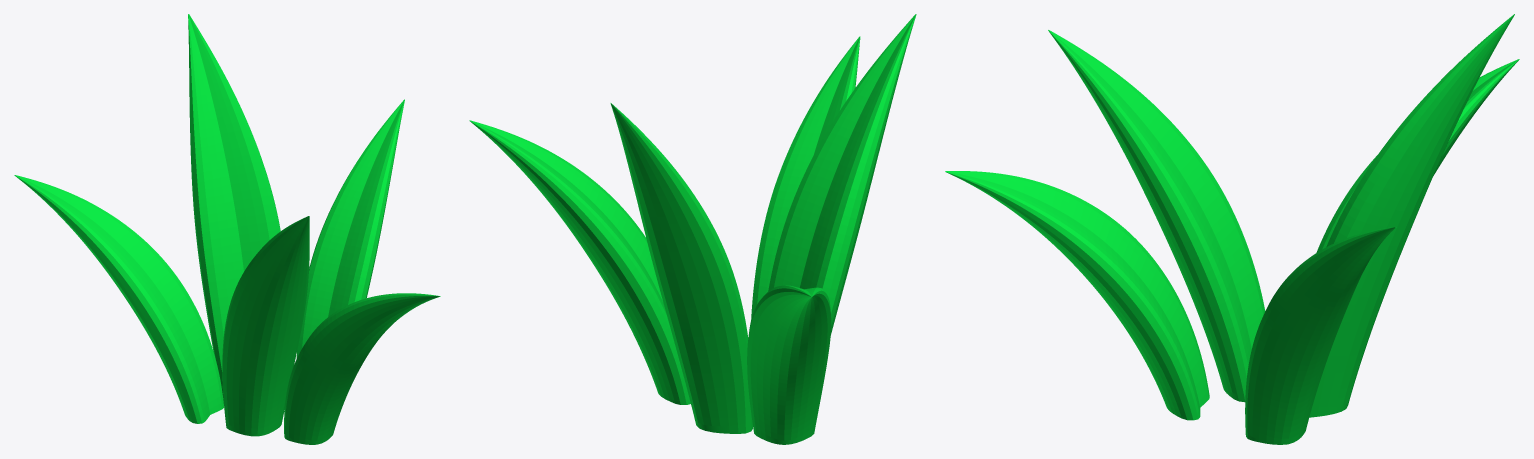
The model's file is plant1.fbx.
3 views of the same model, side by side, from view 1: azimuth 30°, elevation 25°; view 2: azimuth 150°, elevation 25°; view 3: azimuth 270°, elevation 25° (orthographic). The views are drawn at different scales.
Parts seen in each view (by area): view 1: plant; view 2: plant; view 3: plant.
Part boxes in pixels (x1,y1,x2,y2): plant: (14,14,440,444); plant: (469,14,916,444); plant: (945,14,1519,444).
Bounding box in the file's own units: 1.02 × 0.9266 × 1.21.
